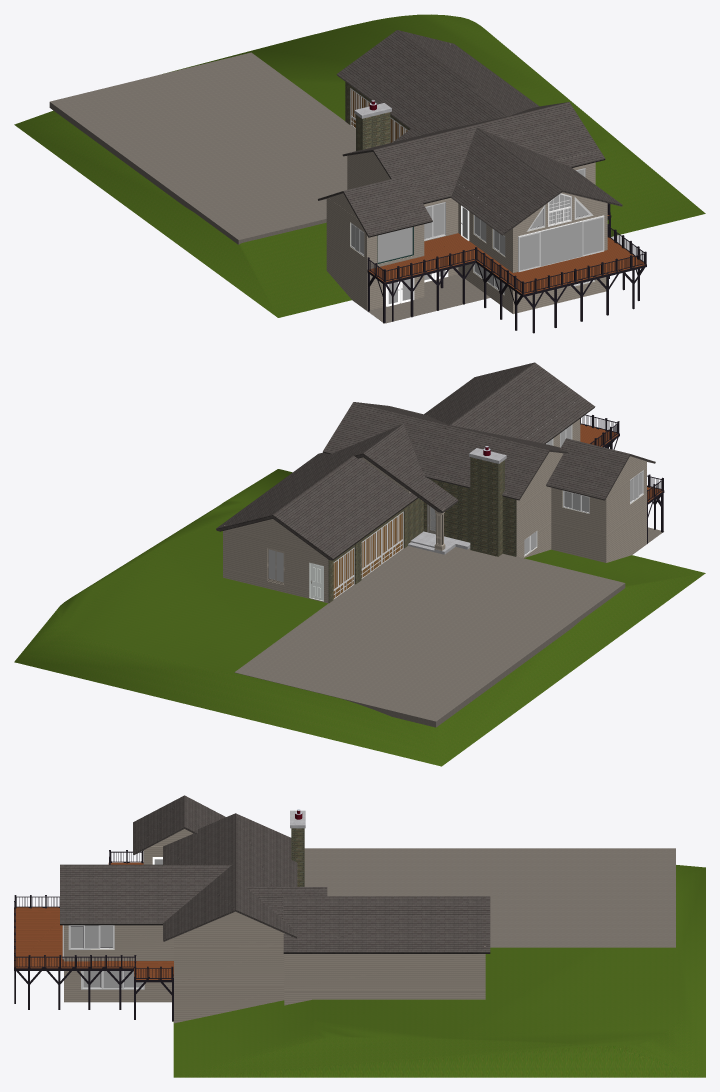
Rendered from west cedar-2.glb.
The picture shows the model from 3 angles, top to bottom: view 1: azimuth 30°, elevation 25°; view 2: azimuth 150°, elevation 25°; view 3: azimuth 270°, elevation 25°; orthographic projection.
Visible parts, largest first — view 1: Cube (×2), Roof Side (×8), Custom Terrain, Building Block (×3), Wall (×8), Furniture, Picture Shape, Picture Window, Door, FW_Triangle_symmetry_4; view 2: Custom Terrain, Cube (×4), Roof Side (×8), Wall (×7), Multi-panel garage door 3 (×3), Roof Gable; view 3: Custom Terrain, Roof Side (×7), Cube (×3), Wall (×6), Building Block, Window 5 (×2), Roof Gable, Slab.
Boxes of the visible parts, x1,y1,x2,y2 form: Cube (×2): (49, 52, 390, 244); Roof Side (×8): (336, 30, 622, 237); Custom Terrain: (14, 14, 705, 317); Building Block (×3): (367, 215, 646, 323); Wall (×8): (326, 201, 607, 313); Furniture: (518, 215, 604, 272); Picture Shape: (540, 222, 582, 266); Picture Window: (377, 226, 413, 263); Door: (424, 202, 445, 240); FW_Triangle_symmetry_4: (548, 193, 571, 226); Custom Terrain: (14, 469, 705, 766); Cube (×4): (234, 457, 625, 727); Roof Side (×8): (216, 362, 630, 560); Wall (×7): (223, 469, 646, 603); Multi-panel garage door 3 (×3): (333, 511, 403, 599); Roof Gable: (232, 519, 313, 548); Custom Terrain: (173, 865, 705, 1077); Roof Side (×7): (60, 795, 490, 953); Cube (×3): (174, 828, 675, 947); Wall (×6): (64, 925, 485, 1023); Building Block: (14, 907, 173, 982); Window 5 (×2): (68, 925, 144, 989); Roof Gable: (184, 911, 284, 933); Slab: (174, 984, 485, 992).
Bounding box in the file's own units: 37.1 × 11.18 × 51.62.
30 materials, 12 textured.
